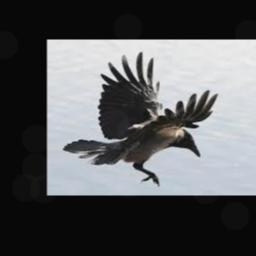Crow: (61, 51, 216, 187)
